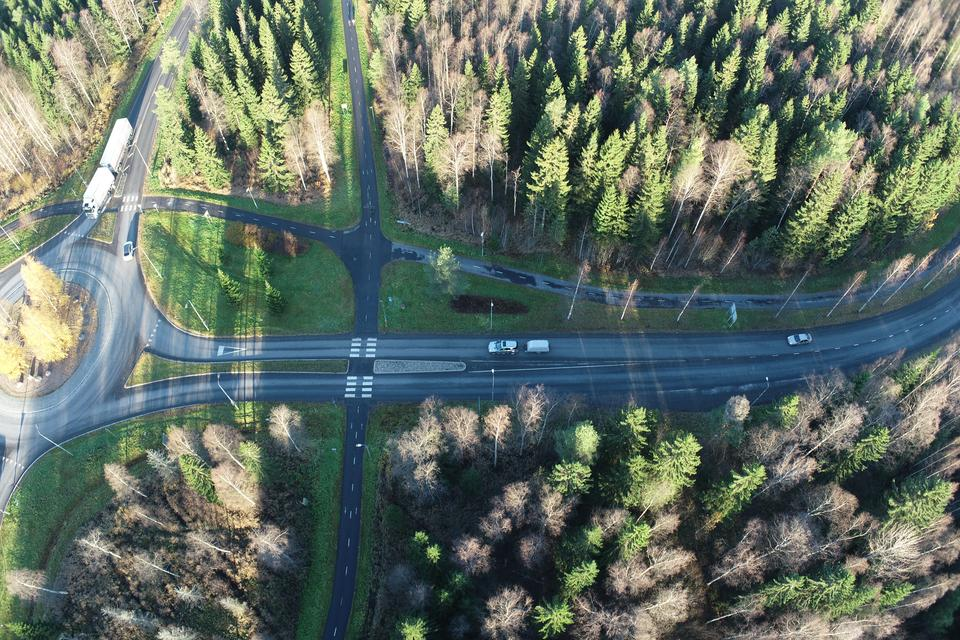intersection: (323, 317, 400, 425), (65, 181, 154, 221)
roundabout: (0, 225, 169, 504)
